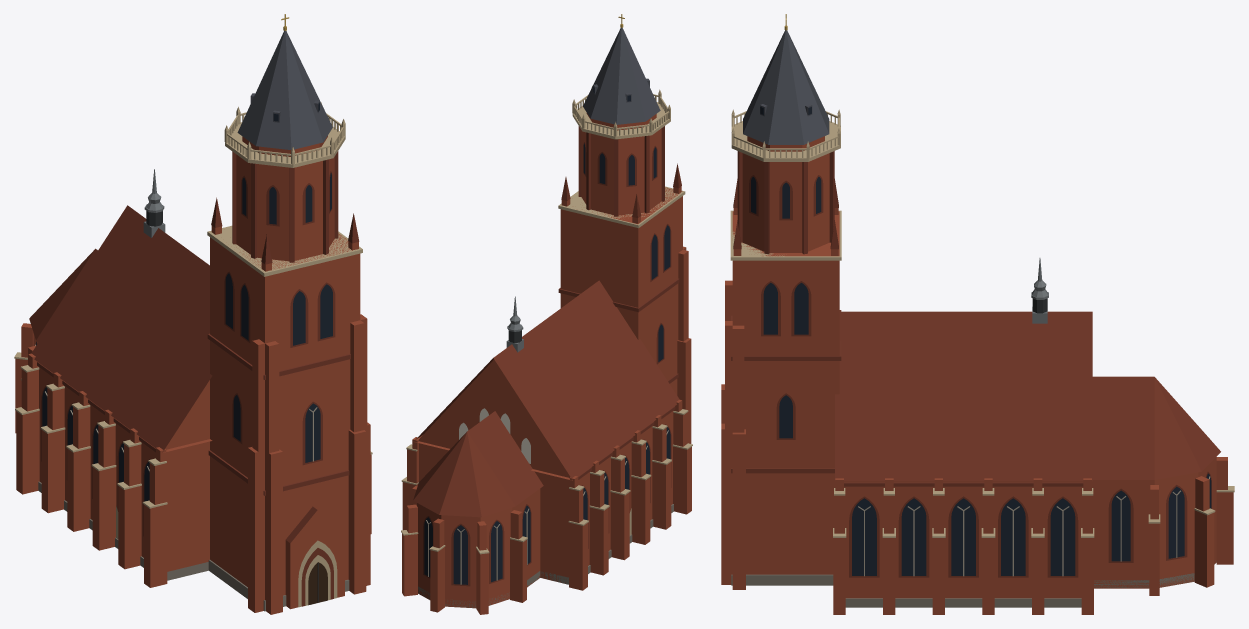
Rendered from Kosciol.fbx.
3 renders of one model, left to right at view 1: azimuth 30°, elevation 25°; view 2: azimuth 150°, elevation 25°; view 3: azimuth 270°, elevation 25°, orthographic. The views are drawn at different scales.
Visible parts, largest first — view 1: Kosciol_Wieza, Kosciol_WszystkichSwietych, Kosciol_Przypory, Kosciol_Detal_NOCOL; view 2: Kosciol_WszystkichSwietych, Kosciol_Wieza, Kosciol_Przypory, Kosciol_Detal_NOCOL; view 3: Kosciol_WszystkichSwietych, Kosciol_Wieza, Kosciol_Przypory, Kosciol_Detal_NOCOL.
Part boxes in pixels (x1,y1,x2,y2): Kosciol_Wieza: (208, 31, 360, 611); Kosciol_WszystkichSwietych: (29, 169, 212, 580); Kosciol_Przypory: (15, 314, 371, 614); Kosciol_Detal_NOCOL: (14, 14, 372, 602); Kosciol_WszystkichSwietych: (413, 280, 679, 608); Kosciol_Wieza: (560, 27, 682, 395); Kosciol_Przypory: (402, 246, 691, 614); Kosciol_Detal_NOCOL: (401, 14, 692, 584); Kosciol_WszystkichSwietych: (835, 258, 1220, 607); Kosciol_Wieza: (731, 30, 840, 585); Kosciol_Przypory: (721, 280, 1233, 614); Kosciol_Detal_NOCOL: (730, 14, 1234, 576).
Size of the model in its own units: 26.2 by 63.4 by 53.8.
